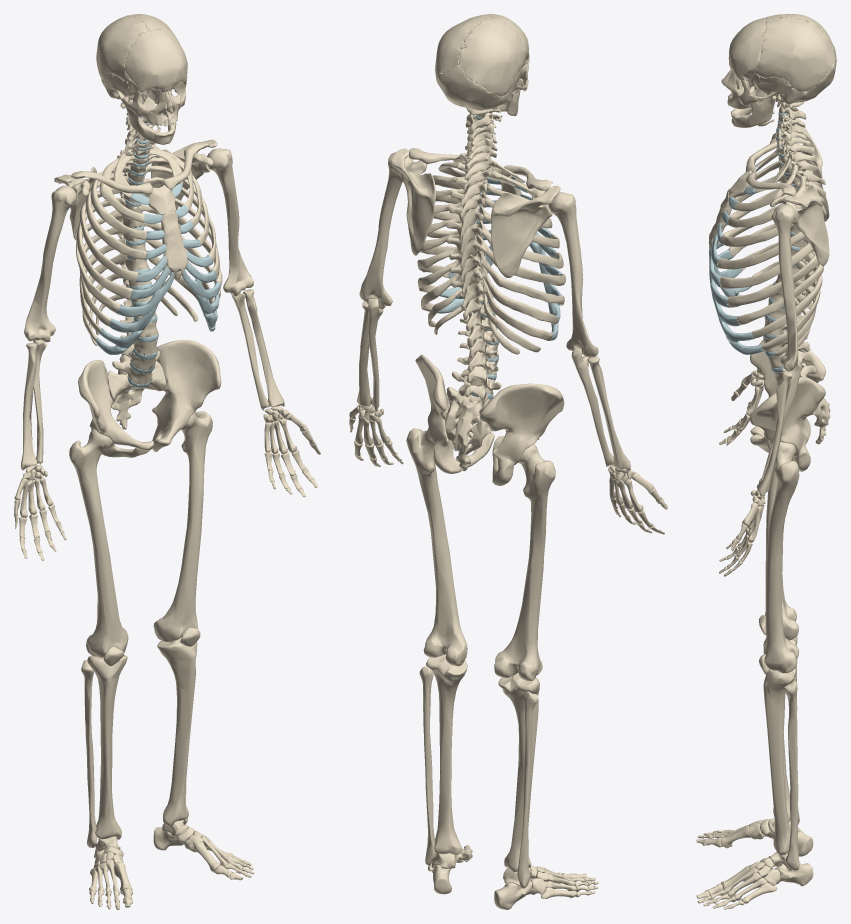
Rendered from skeleton.glb.
3 views of the same model, side by side, from view 1: azimuth 30°, elevation 25°; view 2: azimuth 150°, elevation 25°; view 3: azimuth 270°, elevation 25° (orthographic). The views are drawn at different scales.
Visible parts, largest first — view 1: lower-limb-bones, ribcage, upper-limb-bones, skull, pelvis, spine; view 2: lower-limb-bones, upper-limb-bones, ribcage, spine, skull, pelvis; view 3: lower-limb-bones, ribcage, upper-limb-bones, skull, spine, pelvis.
Part boxes in pixels (box(x1,y1,x2,y2)): lower-limb-bones: box(69, 411, 254, 909); ribcage: box(76, 145, 222, 354); upper-limb-bones: box(14, 139, 320, 560); skull: box(96, 14, 187, 144); pelvis: box(78, 340, 221, 457); spine: box(107, 99, 166, 429); lower-limb-bones: box(406, 428, 598, 909); upper-limb-bones: box(349, 148, 667, 534); ribcage: box(417, 156, 566, 354); spine: box(445, 107, 501, 471); skull: box(435, 14, 529, 121); pelvis: box(415, 354, 564, 485); lower-limb-bones: box(696, 442, 813, 909); ribcage: box(708, 144, 824, 356); upper-limb-bones: box(719, 124, 829, 576); skull: box(721, 14, 836, 127); spine: box(763, 102, 830, 444); pelvis: box(750, 330, 825, 471).
Bounding box in the file's own units: 0.6478 × 1.71 × 0.2541.
